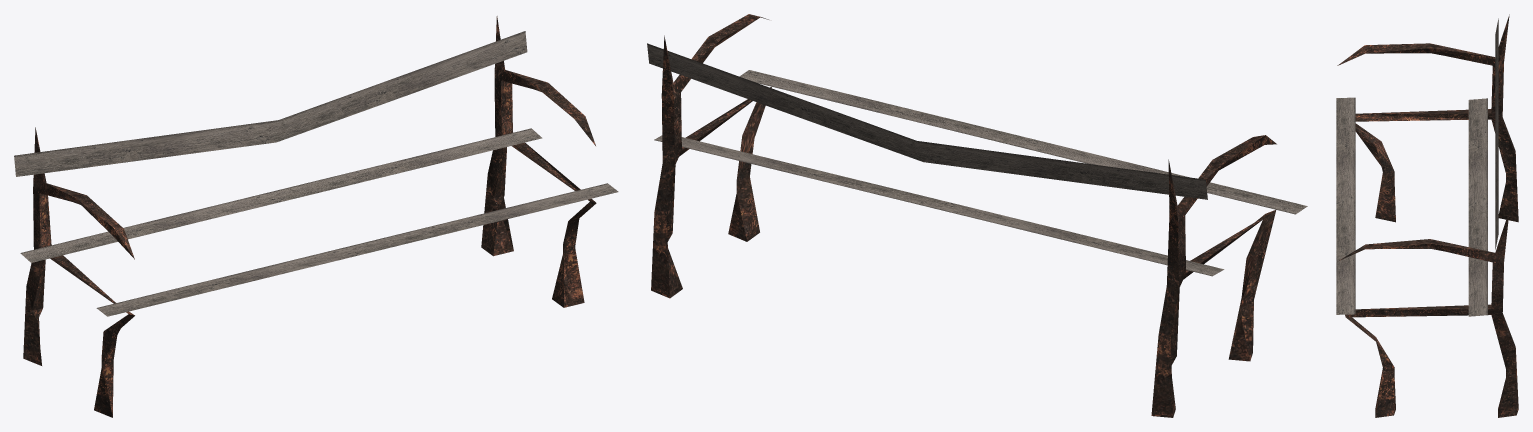
Rendered from bench_LOD2.fbx.
The picture shows the model from 3 angles, left to right: view 1: azimuth 30°, elevation 25°; view 2: azimuth 150°, elevation 25°; view 3: azimuth 270°, elevation 25°; orthographic projection. The views are drawn at different scales.
Visible parts, largest first — view 1: bench_LOD2; view 2: bench_LOD2; view 3: bench_LOD2.
Boxes of the visible parts, x1,y1,x2,y2 form: bench_LOD2: (14, 16, 618, 417); bench_LOD2: (647, 14, 1307, 417); bench_LOD2: (1336, 14, 1518, 417).
Bounding box in the file's own units: 1.84 × 0.8073 × 0.6547.
